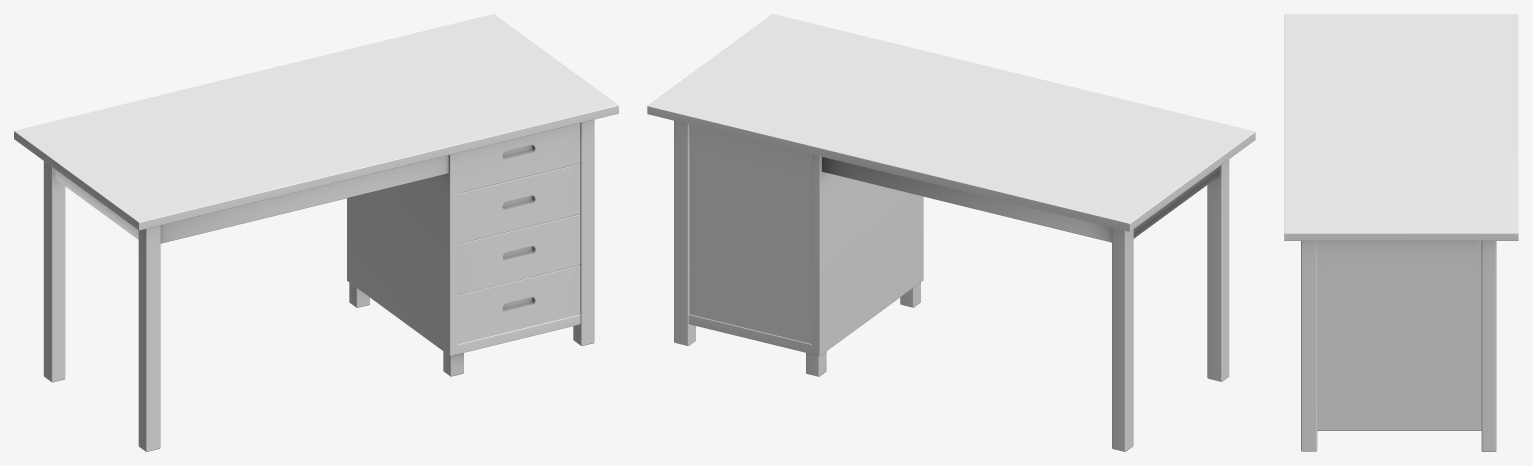
The model's file is desk1.glb.
The picture shows the model from 3 angles, left to right: view 1: azimuth 30°, elevation 25°; view 2: azimuth 150°, elevation 25°; view 3: azimuth 270°, elevation 25°; orthographic projection. The views are drawn at different scales.
Visible parts, largest first — view 1: node_id501; view 2: node_id501; view 3: node_id501.
Part boxes in pixels (x1,y1,x2,y2): node_id501: [14, 14, 618, 451]; node_id501: [647, 14, 1255, 451]; node_id501: [1284, 14, 1518, 451].
Size of the model in its own units: 0.512 by 0.2456 by 0.2312.
Materials: 1 (1 with a texture image).
